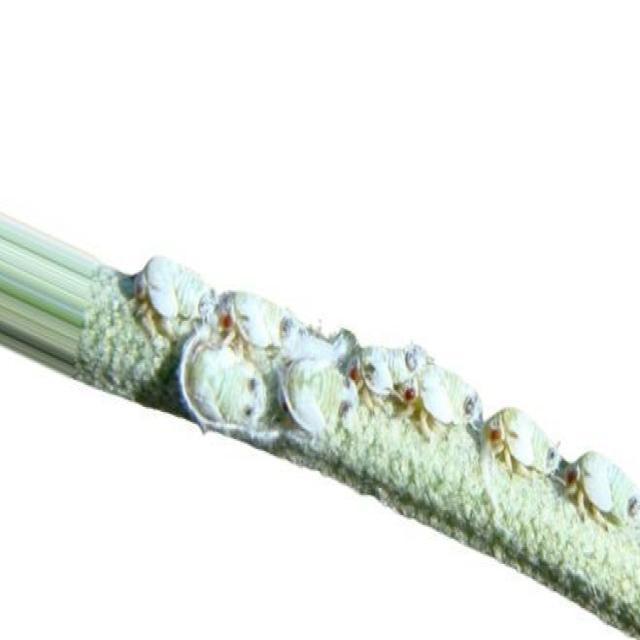Psyllid: (136, 255, 639, 545)
